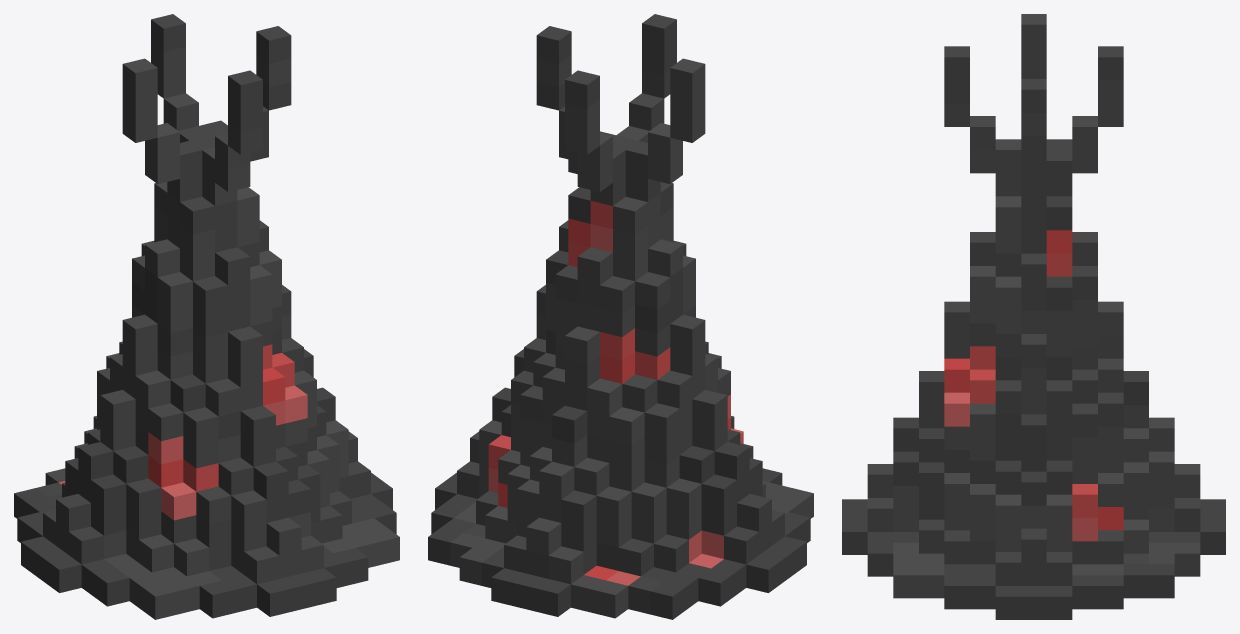
Rendered from Vulcano Mage Tower.obj.
The picture shows the model from 3 angles, left to right: view 1: azimuth 30°, elevation 25°; view 2: azimuth 150°, elevation 25°; view 3: azimuth 270°, elevation 25°; orthographic projection.
Size of the model in its own units: 1.5 by 2.1 by 1.5.
Materials: 1 (1 with a texture image).
